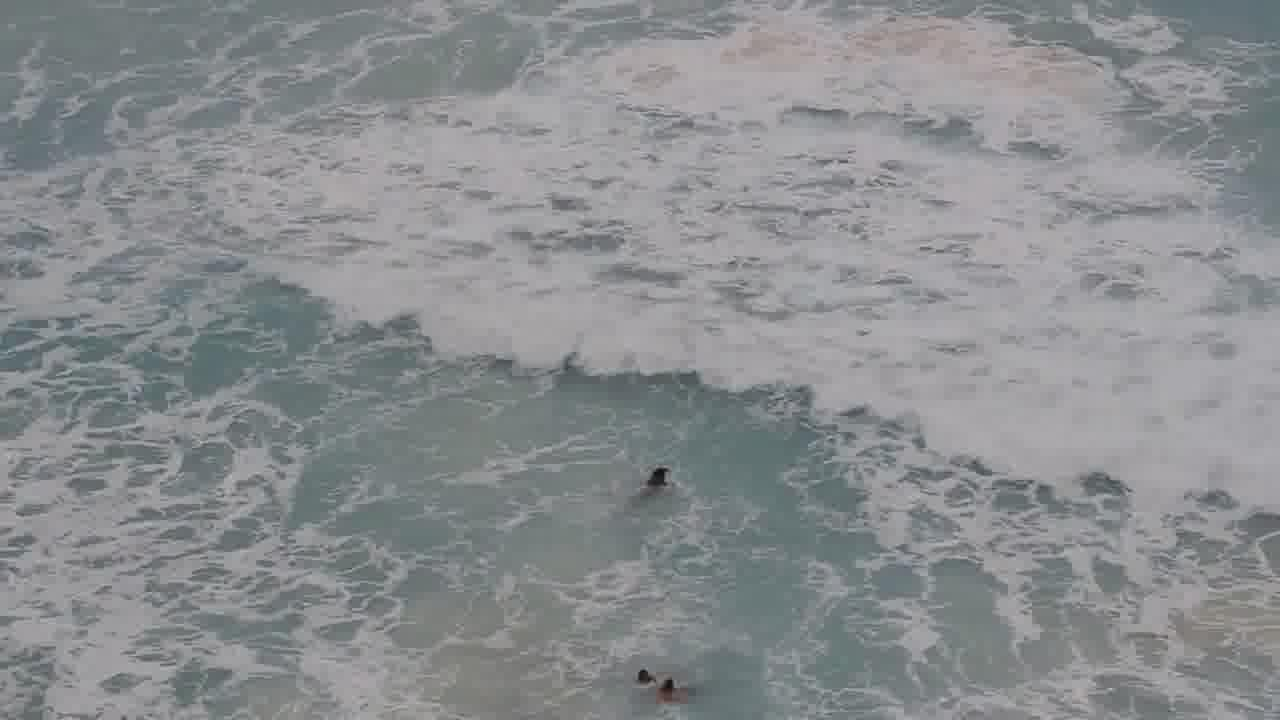human: (632, 454, 690, 501), (651, 667, 695, 710), (623, 654, 666, 690)
